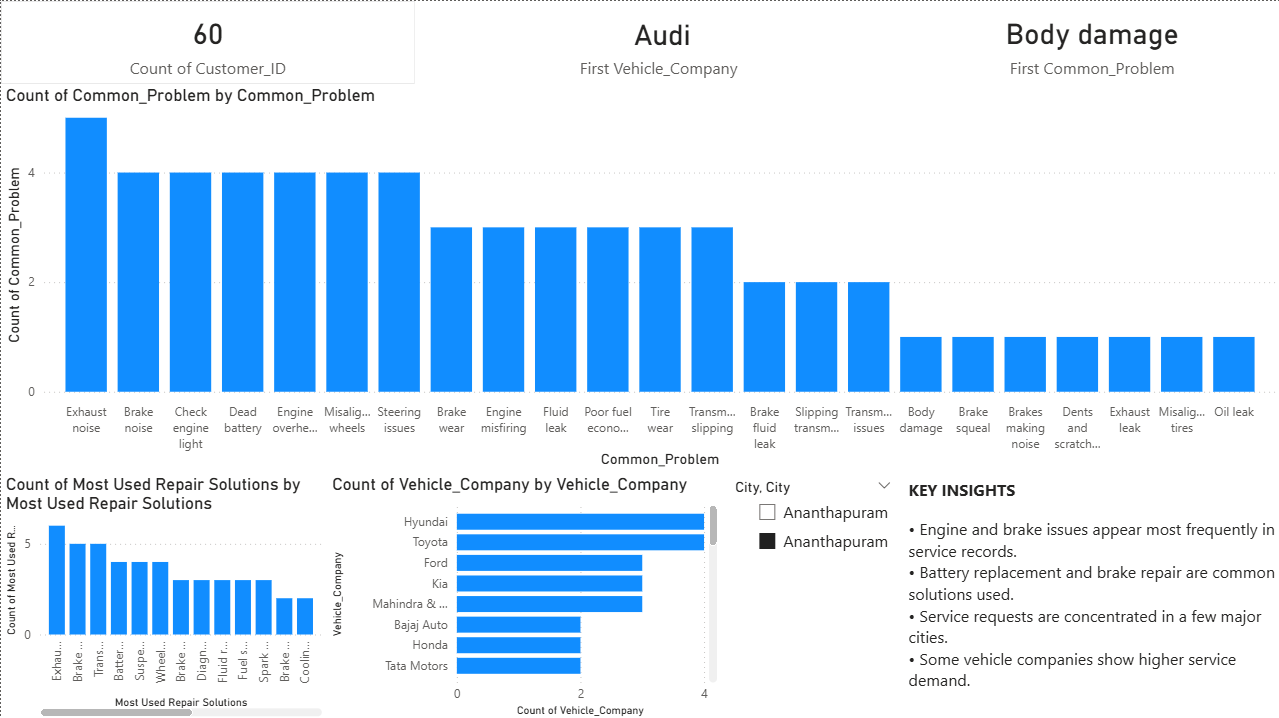

What the dashboard file says about the page in this screenshot:
{"tool":"powerbi","page":{"name":"Aftersales Service Dashboard","canvas":[1280,720],"ordinal":6},"visuals":[{"type":"card","fields":{"Values":["CountNonNull(clean_vehicle_service_data.Customer_ID)"]},"box":[0,0,414,84],"z":0},{"type":"card","fields":{"Values":["Min(clean_vehicle_service_data.Vehicle_Company)"]},"box":[414,1,488,83],"z":1000},{"type":"card","fields":{"Values":["Min(clean_vehicle_service_data.Common_Problem)"]},"box":[902,0,378,84],"z":2000},{"type":"clusteredColumnChart","fields":{"Category":["clean_vehicle_service_data.Common_Problem"],"Y":["CountNonNull(clean_vehicle_service_data.Common_Problem)"]},"box":[0,84,1280,388],"z":2001},{"type":"clusteredColumnChart","fields":{"Category":["clean_vehicle_service_data.Solution_Used"],"Y":["CountNonNull(clean_vehicle_service_data.Solution_Used)"]},"box":[0,472,326,248],"z":2002},{"type":"barChart","fields":{"Y":["CountNonNull(clean_vehicle_service_data.Vehicle_Company)"],"Category":["clean_vehicle_service_data.Vehicle_Company"]},"box":[326,472,395,248],"z":2003},{"type":"slicer","fields":{"Values":["clean_vehicle_service_data.City","clean_vehicle_service_data.City"]},"box":[721,472,181,248],"z":2004},{"type":"textbox","box":[902,472,378,248],"z":2005}]}

Visuals, with their boxes in screenshot pixels (x1, y1, x2, y2), scaled from the page's 1280x720 canvas onto the 1279x718 screenshot:
card - CountNonNull(clean_vehicle_service_data.Customer_ID): [0,0,414,84]
card - Min(clean_vehicle_service_data.Vehicle_Company): [414,1,901,84]
card - Min(clean_vehicle_service_data.Common_Problem): [901,0,1278,84]
clusteredColumnChart - clean_vehicle_service_data.Common_Problem x CountNonNull(clean_vehicle_service_data.Common_Problem): [0,84,1278,471]
clusteredColumnChart - clean_vehicle_service_data.Solution_Used x CountNonNull(clean_vehicle_service_data.Solution_Used): [0,471,326,717]
barChart - CountNonNull(clean_vehicle_service_data.Vehicle_Company) x clean_vehicle_service_data.Vehicle_Company: [326,471,720,717]
slicer - clean_vehicle_service_data.City x clean_vehicle_service_data.City: [720,471,901,717]
textbox: [901,471,1278,717]
